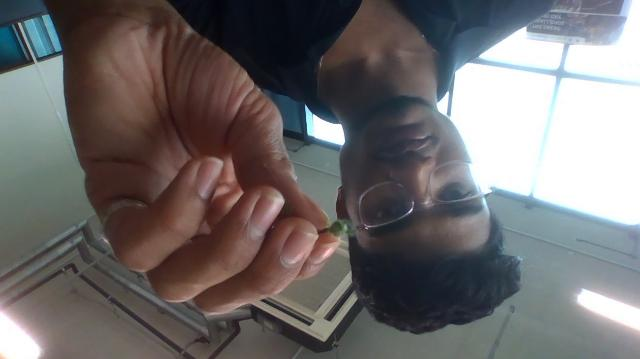Fruit Bud: (330, 218, 355, 236)
